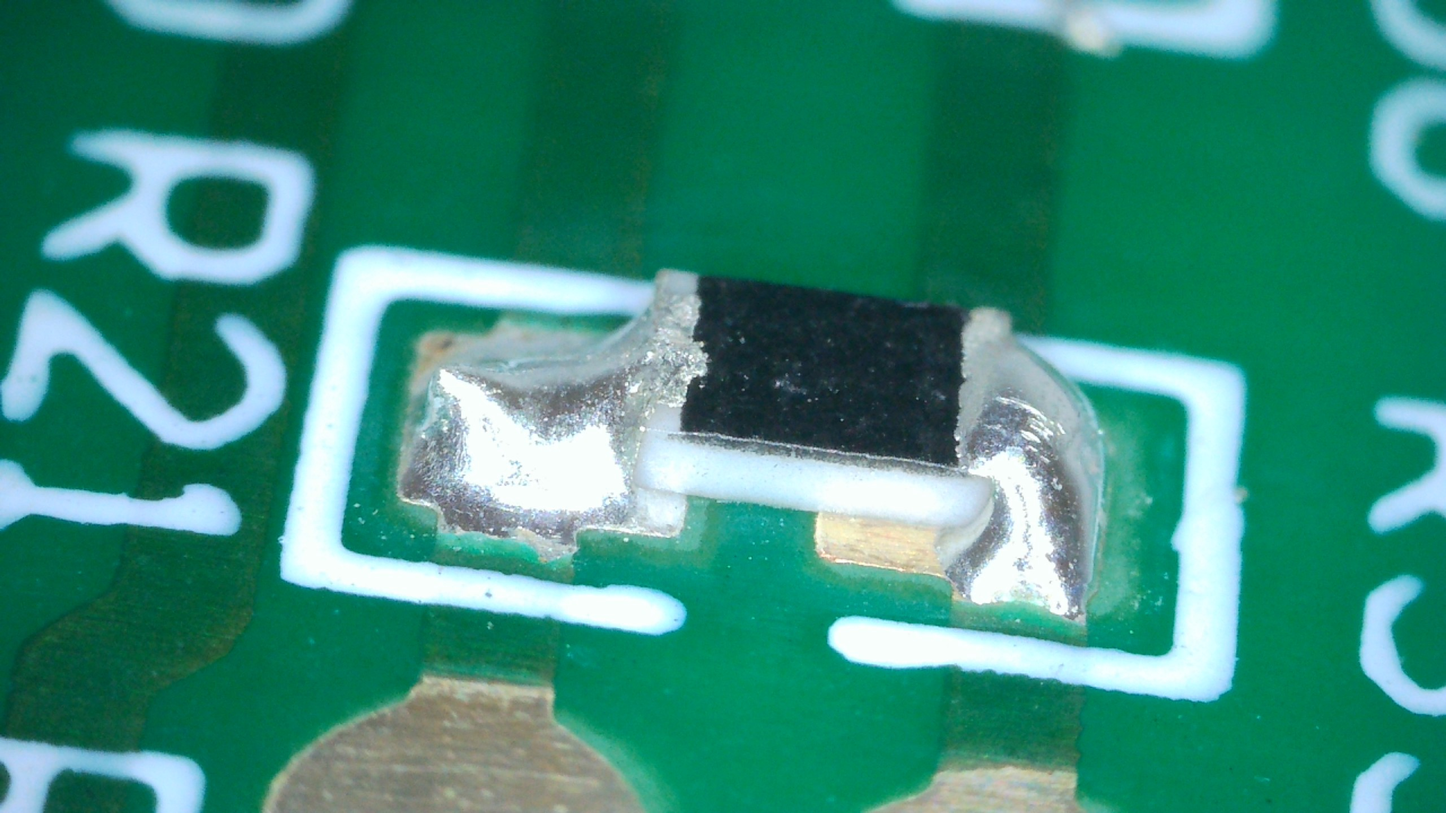NG: (938, 309, 1097, 621), (422, 368, 562, 509)
OK: (405, 268, 695, 541)
